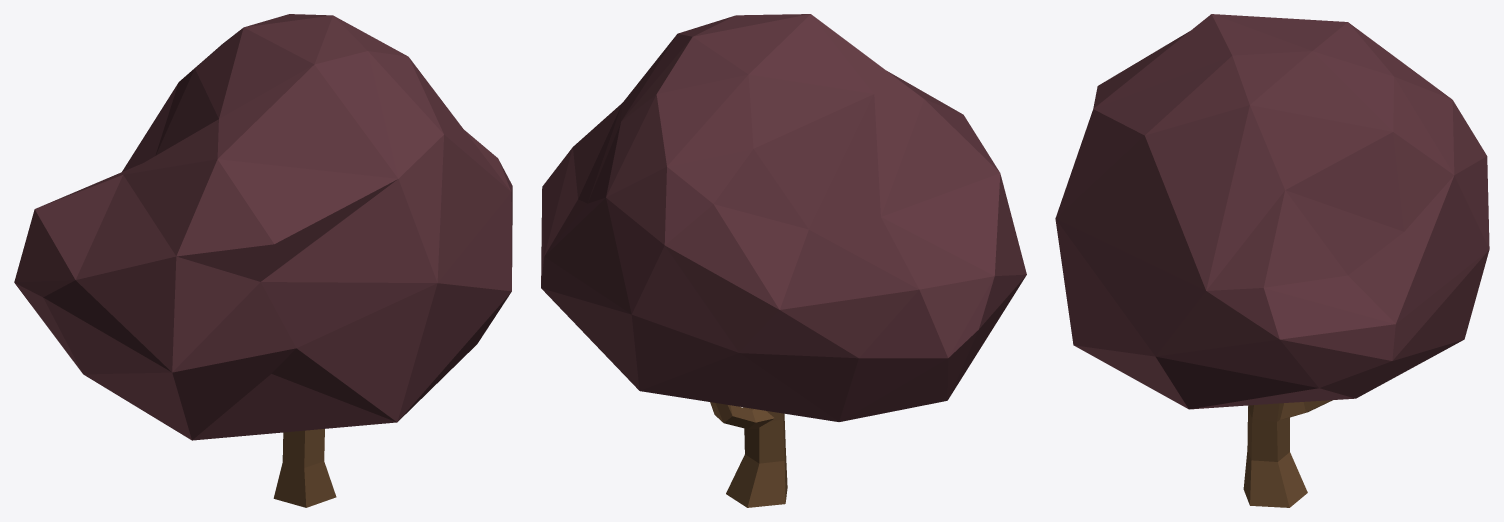
The model's file is bush-medium.fbx.
3 views of the same model, side by side, from view 1: azimuth 30°, elevation 25°; view 2: azimuth 150°, elevation 25°; view 3: azimuth 270°, elevation 25° (orthographic). The views are drawn at different scales.
Parts seen in each view (by area): view 1: bush-medium; view 2: bush-medium; view 3: bush-medium.
Part boxes in pixels (x1,y1,x2,y2): bush-medium: [14, 14, 512, 507]; bush-medium: [541, 14, 1026, 507]; bush-medium: [1055, 14, 1489, 507].
Bounding box in the file's own units: 1.55 × 1.5 × 1.25.
